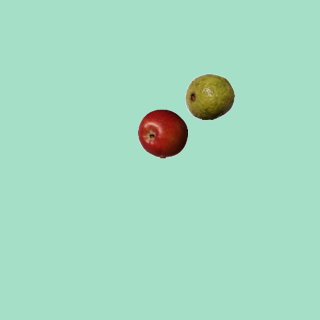Apple Braeburn: (137, 108, 187, 158)
Guava: (184, 71, 234, 121)
